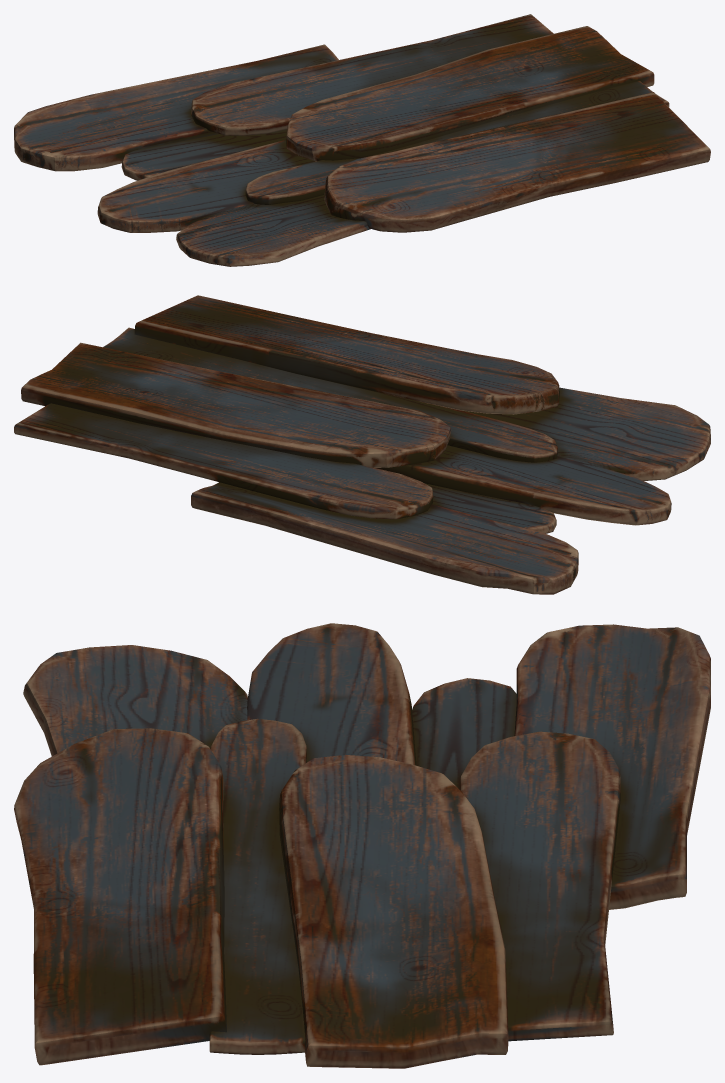
File: SM_ShingleLong.fbx
The picture shows the model from 3 angles, top to bottom: view 1: azimuth 30°, elevation 25°; view 2: azimuth 150°, elevation 25°; view 3: azimuth 270°, elevation 25°; orthographic projection. The views are drawn at different scales.
Parts seen in each view (by area): view 1: SM_ShingleLong_LOD0; view 2: SM_ShingleLong_LOD0; view 3: SM_ShingleLong_LOD0.
Boxes of the visible parts, x1,y1,x2,y2 form: SM_ShingleLong_LOD0: (14,14,710,266); SM_ShingleLong_LOD0: (14,295,710,594); SM_ShingleLong_LOD0: (14,623,710,1068).
Bounding box in the file's own units: 1243 × 824 × 98.55.
Materials: 1 (1 with a texture image).
